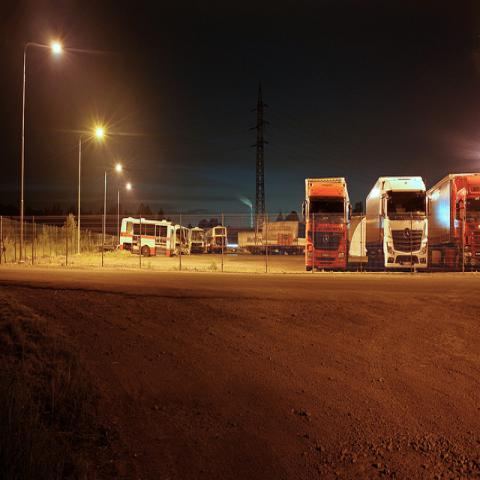bus: (301, 178, 352, 272), (119, 217, 175, 257), (206, 224, 226, 254), (174, 224, 190, 255), (190, 227, 204, 253)
truck: (365, 176, 428, 270), (427, 172, 479, 272), (304, 176, 354, 270)
